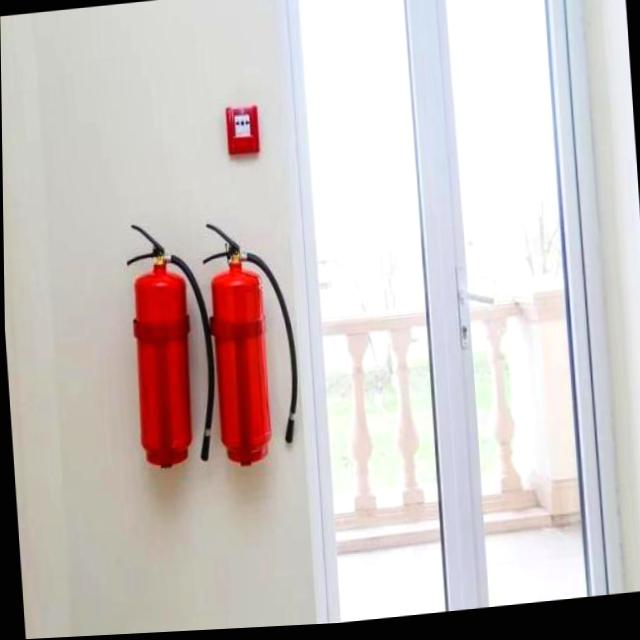FireExtinguisher: (195, 211, 304, 473), (120, 211, 220, 477)
